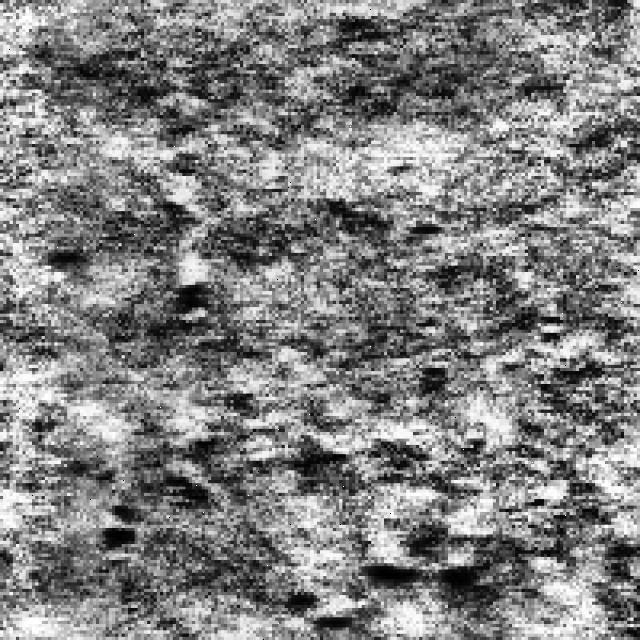Crazing: (307, 419, 592, 586)
